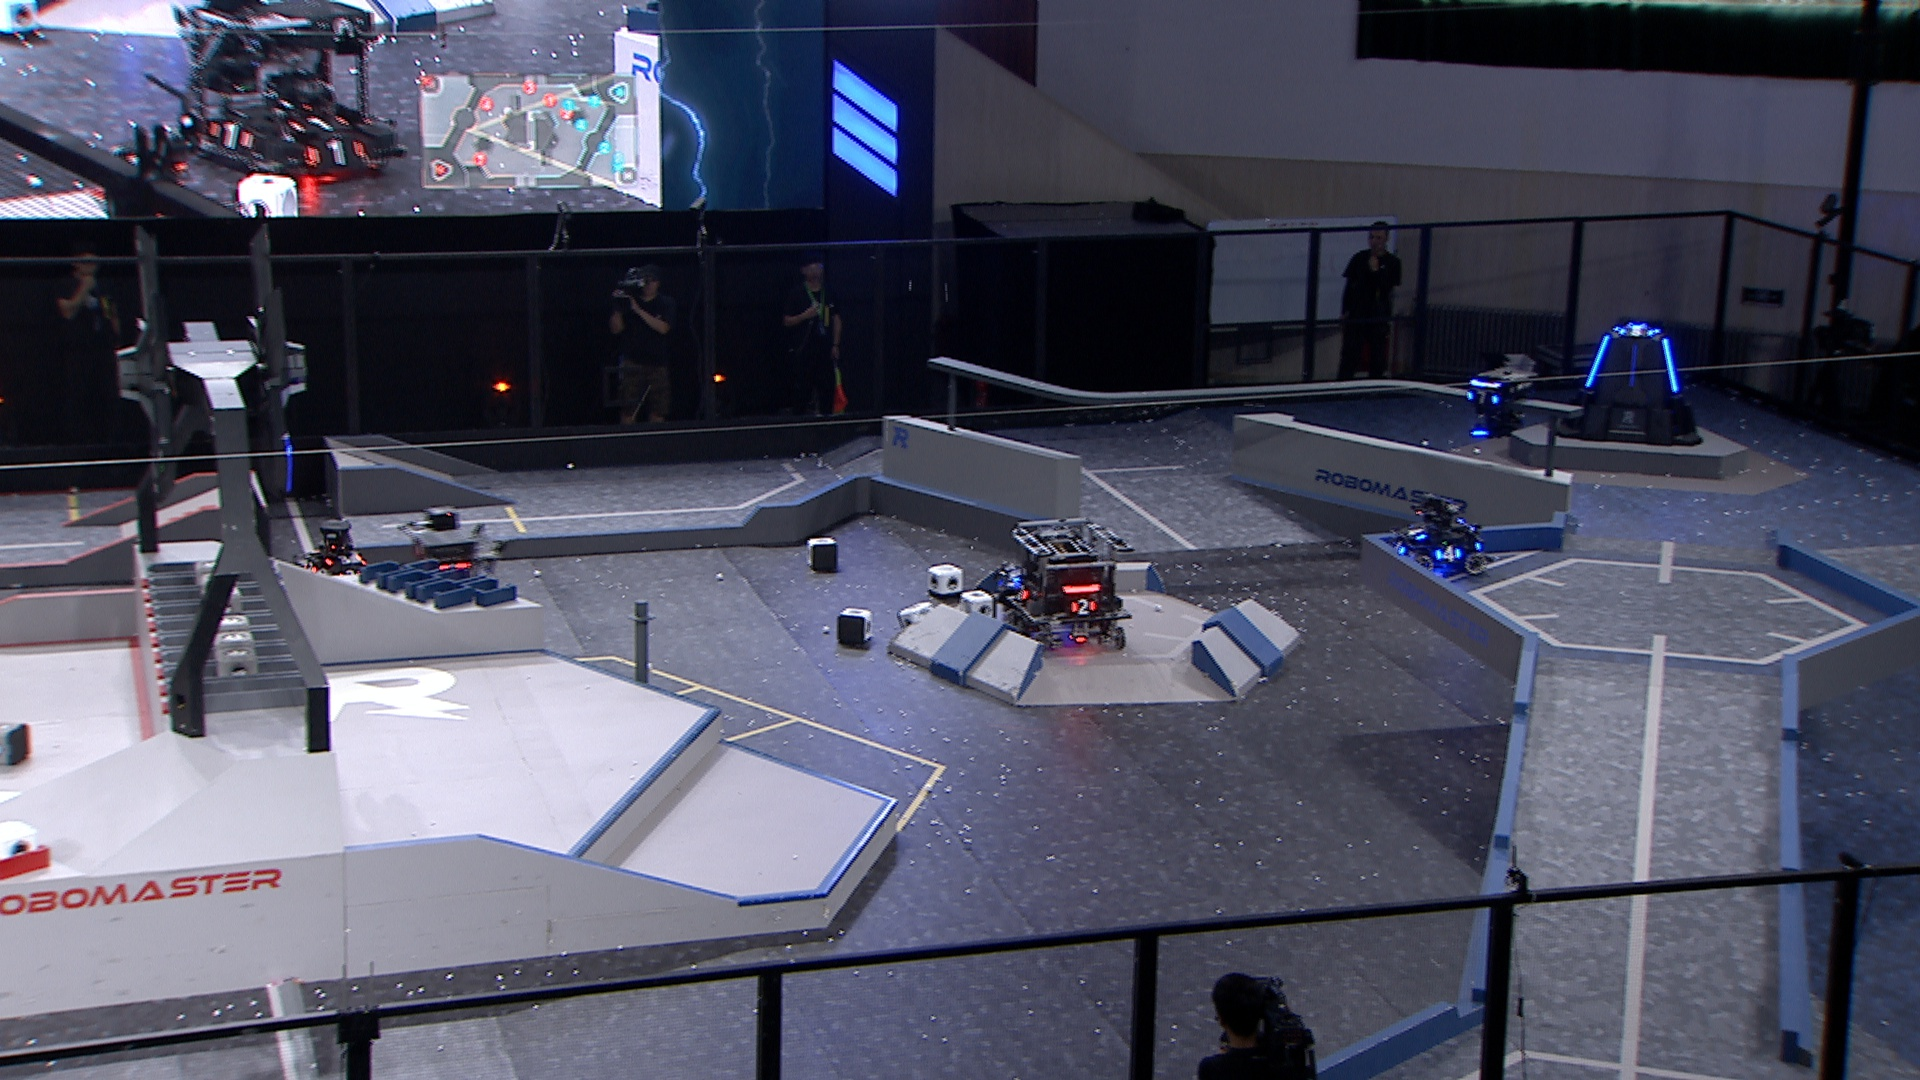armor: (1582, 334, 1610, 389), (1660, 335, 1680, 394), (1462, 389, 1503, 409), (1432, 543, 1462, 566), (1067, 595, 1098, 616), (1617, 324, 1659, 339), (1629, 343, 1642, 389), (320, 553, 359, 566), (1403, 526, 1428, 543), (1387, 538, 1408, 556), (1011, 585, 1030, 604)
base: (1552, 320, 1704, 450)
car: (998, 517, 1135, 654), (398, 517, 496, 622), (1385, 493, 1489, 578), (294, 518, 372, 584)
watcher: (1460, 367, 1538, 436)
